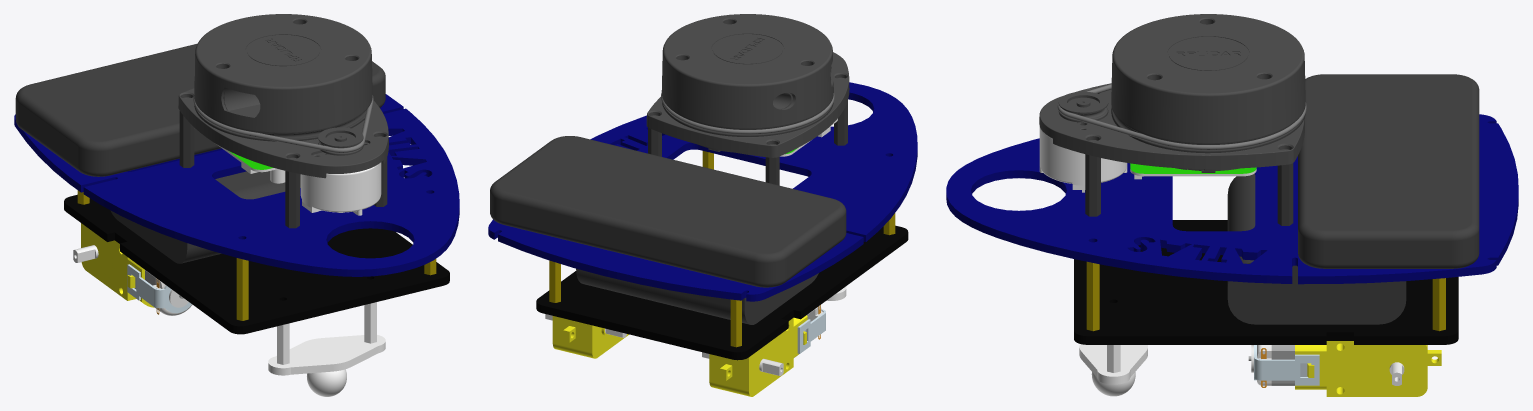
3 renders of one model, left to right at view 1: azimuth 30°, elevation 25°; view 2: azimuth 150°, elevation 25°; view 3: azimuth 270°, elevation 25°, orthographic. The views are drawn at different scales.
Parts seen in each view (by area): view 1: mesh 25 rplidar-1/RPLIDAR A1M8 kit(iges).IGS-1/1.25 4pin.IGS-1, mesh 11 standoff-1, mesh 1 raspberrypi-1, mesh 9 TT Motor.step[8], mesh 13 standoff-3, mesh 5 TT Motor.step[7], object 17, mesh 10 lowerplate-1, mesh 7 TT Motor.step[5], object 21, mesh 3 TT Motor.step[1]; view 2: mesh 1 raspberrypi-1, mesh 25 rplidar-1/RPLIDAR A1M8 kit(iges).IGS-1/1.25 4pin.IGS-1, mesh 11 standoff-1, mesh 9 TT Motor.step[8], mesh 5 TT Motor.step[7], mesh 10 lowerplate-1, object 17, mesh 7 TT Motor.step[5], mesh 8 TT Motor.step[2]; view 3: mesh 1 raspberrypi-1, mesh 25 rplidar-1/RPLIDAR A1M8 kit(iges).IGS-1/1.25 4pin.IGS-1, mesh 11 standoff-1, mesh 9 TT Motor.step[8], mesh 5 TT Motor.step[7], mesh 13 standoff-3, mesh 10 lowerplate-1, object 17, mesh 7 TT Motor.step[5], object 23, mesh 4 TT Motor.step[6].
Part boxes in pixels (<box>): mesh 25 rplidar-1/RPLIDAR A1M8 kit(iges).IGS-1/1.25 4pin.IGS-1: <box>14,94,459,276</box>; mesh 11 standoff-1: <box>178,14,388,178</box>; mesh 1 raspberrypi-1: <box>15,43,387,263</box>; mesh 9 TT Motor.step[8]: <box>64,194,449,334</box>; mesh 13 standoff-3: <box>268,162,385,396</box>; mesh 5 TT Motor.step[7]: <box>81,223,154,307</box>; object 17: <box>193,94,373,152</box>; mesh 10 lowerplate-1: <box>77,190,436,320</box>; mesh 7 TT Motor.step[5]: <box>127,264,191,313</box>; object 21: <box>216,144,285,183</box>; mesh 3 TT Motor.step[1]: <box>153,278,192,315</box>; mesh 1 raspberrypi-1: <box>490,95,847,324</box>; mesh 25 rplidar-1/RPLIDAR A1M8 kit(iges).IGS-1/1.25 4pin.IGS-1: <box>488,82,917,301</box>; mesh 11 standoff-1: <box>646,14,849,157</box>; mesh 9 TT Motor.step[8]: <box>536,225,908,360</box>; mesh 5 TT Motor.step[7]: <box>552,315,807,396</box>; mesh 10 lowerplate-1: <box>549,151,895,347</box>; object 17: <box>661,92,834,134</box>; mesh 7 TT Motor.step[5]: <box>797,309,825,353</box>; mesh 8 TT Motor.step[2]: <box>545,314,783,376</box>; mesh 1 raspberrypi-1: <box>1085,74,1479,324</box>; mesh 25 rplidar-1/RPLIDAR A1M8 kit(iges).IGS-1/1.25 4pin.IGS-1: <box>946,114,1518,284</box>; mesh 11 standoff-1: <box>1039,14,1305,172</box>; mesh 9 TT Motor.step[8]: <box>1074,220,1458,344</box>; mesh 5 TT Motor.step[7]: <box>1295,341,1441,396</box>; mesh 13 standoff-3: <box>1039,126,1147,396</box>; mesh 10 lowerplate-1: <box>1086,261,1445,331</box>; object 17: <box>1057,84,1306,149</box>; mesh 7 TT Motor.step[5]: <box>1254,345,1319,385</box>; object 23: <box>1130,163,1256,173</box>; mesh 4 TT Motor.step[6]: <box>1248,345,1294,385</box>.
Size of the model in its own units: 0.1477 by 0.1369 by 0.2084.
